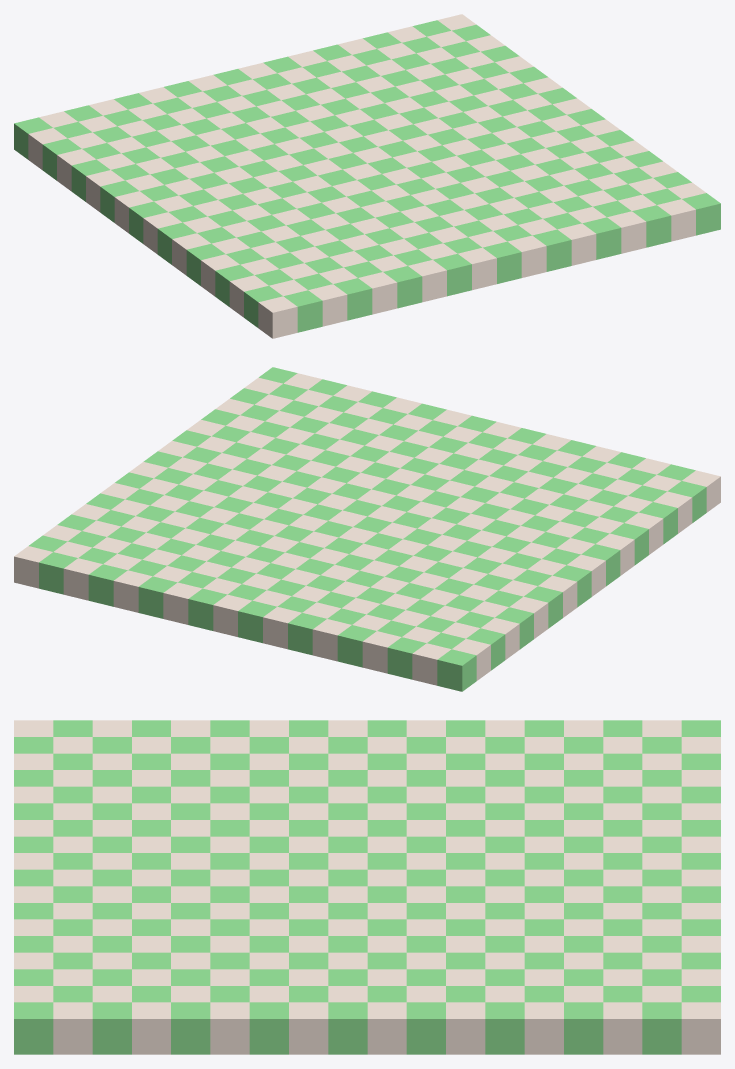
The model's file is map2.obj.
3 renders of one model, top to bottom at view 1: azimuth 30°, elevation 25°; view 2: azimuth 150°, elevation 25°; view 3: azimuth 270°, elevation 25°, orthographic. The views are drawn at different scales.
Parts seen in each view (by area): view 1: Cube.253, Cube.255, Cube.318, Cube.297, Cube.284, Cube.249, Cube.240, Cube.295, Cube.282, Cube.242, Cube.320, Cube.251 (+23 smaller); view 2: Cube.218, Cube.220, Cube.214, Cube.191, Cube.113, Cube.106, Cube.079, Cube.193, Cube.104, Cube.077, Cube.216, Cube.115 (+23 smaller); view 3: Cube.301, Cube.300, Cube.293, Cube.292, Cube.278, Cube.103, Cube.102, Cube.095, Cube.094, Cube.081, Cube.080, Cube.063 (+312 smaller).
Boxes of the visible parts, x1,y1,x2,y2 form: Cube.253: [258, 296, 297, 338]; Cube.255: [283, 290, 322, 332]; Cube.318: [532, 229, 571, 271]; Cube.297: [582, 217, 621, 259]; Cube.284: [607, 211, 646, 253]; Cube.249: [358, 272, 397, 314]; Cube.240: [333, 278, 372, 320]; Cube.295: [557, 223, 596, 265]; Cube.282: [632, 205, 671, 247]; Cube.242: [308, 284, 347, 326]; Cube.320: [507, 235, 546, 277]; Cube.251: [383, 266, 422, 308]; Cube.218: [437, 649, 476, 691]; Cube.220: [412, 643, 451, 685]; Cube.214: [337, 625, 376, 667]; Cube.191: [362, 631, 401, 673]; Cube.113: [163, 582, 202, 624]; Cube.106: [113, 570, 152, 612]; Cube.079: [88, 564, 127, 606]; Cube.193: [387, 637, 426, 679]; Cube.104: [138, 576, 177, 618]; Cube.077: [63, 558, 102, 600]; Cube.216: [312, 619, 351, 661]; Cube.115: [188, 588, 227, 630]; Cube.301: [171, 1002, 210, 1054]; Cube.300: [210, 1002, 249, 1054]; Cube.293: [14, 1002, 53, 1054]; Cube.292: [53, 1002, 92, 1054]; Cube.278: [92, 1002, 131, 1054]; Cube.103: [642, 1002, 681, 1054]; Cube.102: [681, 1002, 720, 1054]; Cube.095: [485, 1002, 524, 1054]; Cube.094: [524, 1002, 563, 1054]; Cube.081: [603, 1002, 642, 1054]; Cube.080: [564, 1002, 603, 1054]; Cube.063: [328, 1002, 367, 1054].
Bounding box in the file's own units: 4.32 × 0.24 × 4.32.
2 materials, 2 textured.
